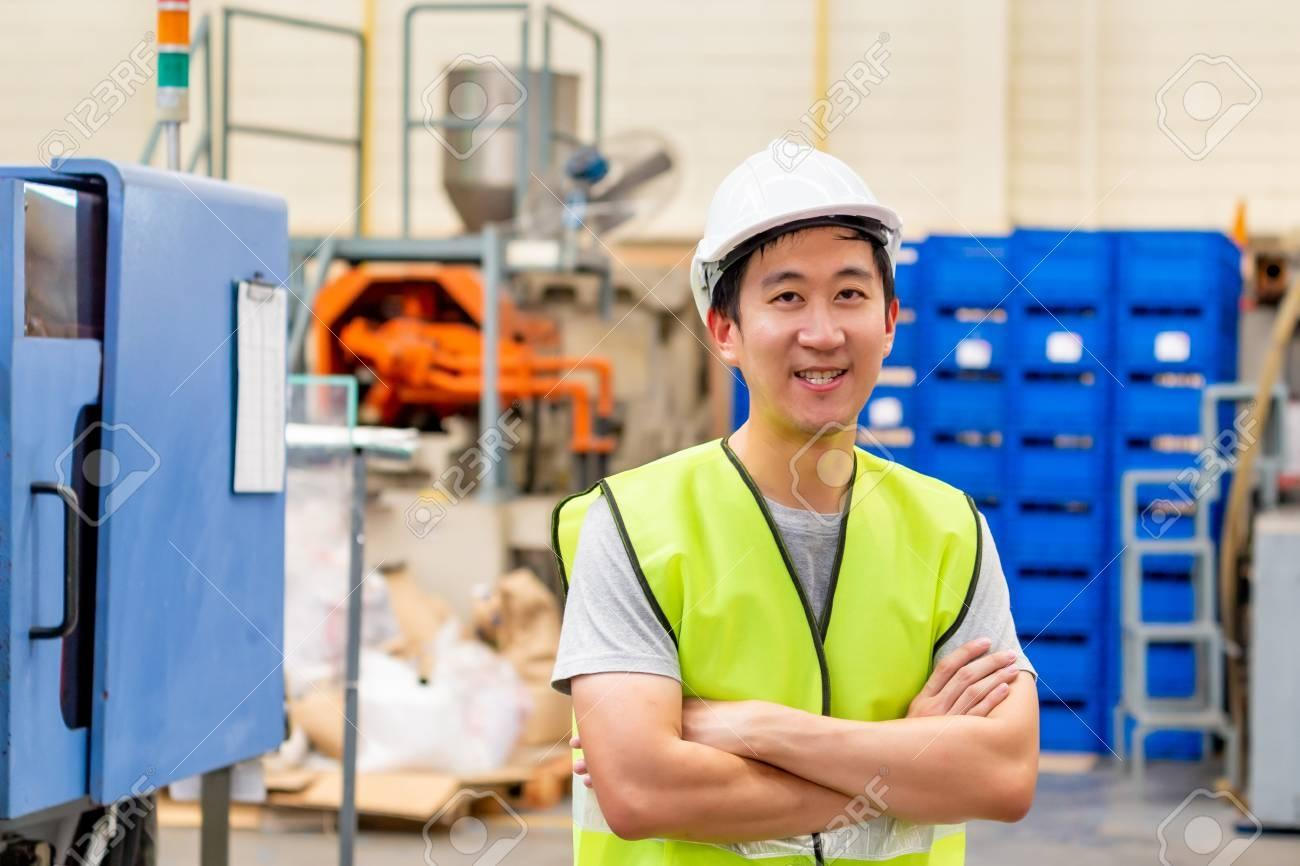helmet: (690, 137, 900, 320)
wear: (553, 452, 988, 866)
